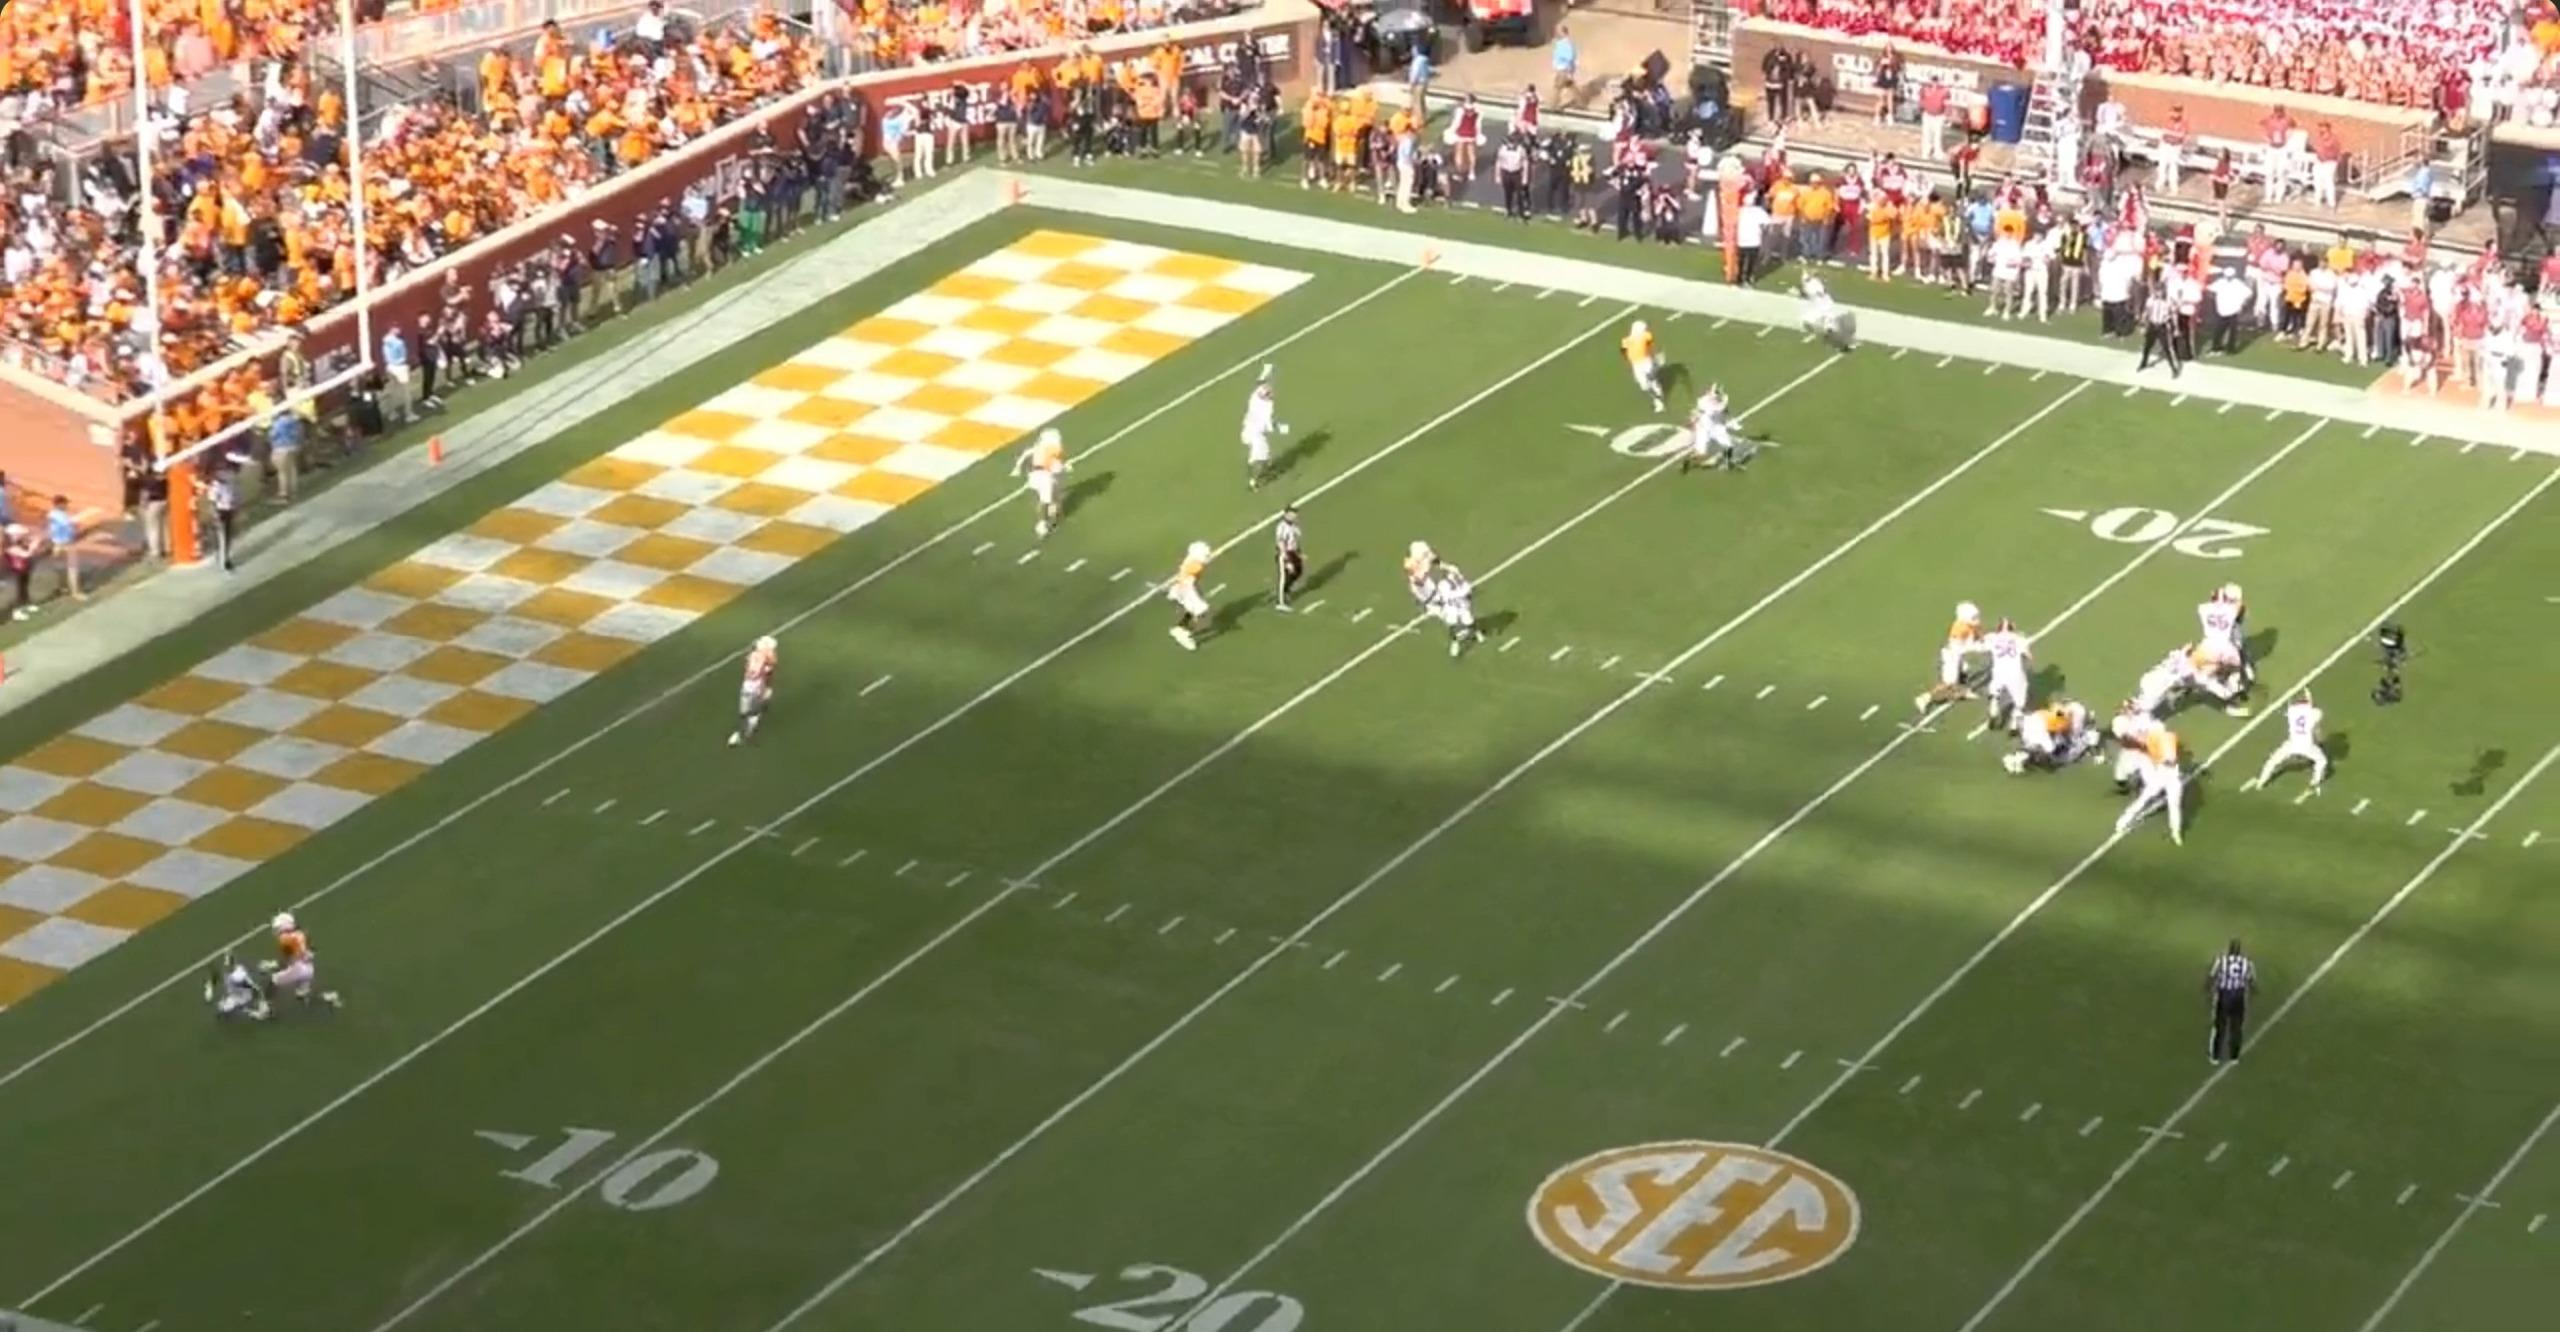defense: (2113, 714, 2191, 850), (249, 904, 330, 1017), (1998, 699, 2099, 775), (1928, 596, 1989, 709), (730, 633, 786, 753), (1160, 535, 1214, 650), (1016, 421, 1065, 542), (1617, 318, 1673, 416), (2186, 636, 2252, 719), (2215, 581, 2257, 682), (1402, 537, 1446, 623)
oline: (1967, 614, 2037, 740), (2105, 697, 2174, 799), (2196, 587, 2250, 704), (2135, 641, 2210, 711)
qb: (2254, 692, 2342, 801), (1265, 501, 1314, 609)
ref: (2204, 938, 2270, 1070), (195, 447, 249, 579), (2140, 281, 2191, 383)
skill: (1234, 355, 1292, 496), (1429, 559, 1488, 658), (1685, 379, 1742, 476), (200, 956, 266, 1038), (1798, 269, 1857, 354)
